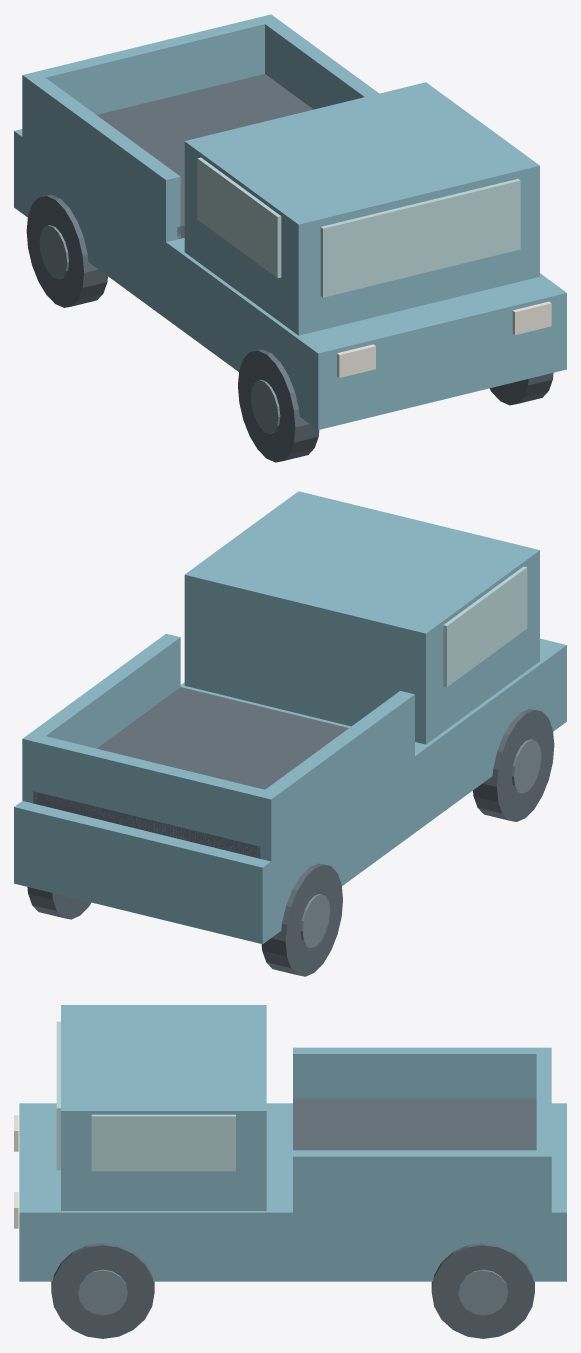
The model's file is pickup.glb.
The picture shows the model from 3 angles, top to bottom: view 1: azimuth 30°, elevation 25°; view 2: azimuth 150°, elevation 25°; view 3: azimuth 270°, elevation 25°; orthographic projection. The views are drawn at different scales.
Parts seen in each view (by area): view 1: pickup_009, pickup_000, pickup_010, pickup_014, pickup_016, pickup_013, pickup_011, pickup_015, pickup_001, pickup_003, pickup_005, pickup_002 (+3 smaller); view 2: pickup_009, pickup_000, pickup_013, pickup_016, pickup_014, pickup_015, pickup_011, pickup_001, pickup_003, pickup_007, pickup_002, pickup_004; view 3: pickup_000, pickup_009, pickup_015, pickup_013, pickup_014, pickup_012, pickup_005, pickup_007, pickup_006, pickup_008, pickup_016, pickup_010.
Part boxes in pixels (x1,y1,x2,y2): pickup_009: (184, 82, 539, 335); pickup_000: (14, 129, 566, 429); pickup_010: (320, 179, 520, 297); pickup_014: (22, 71, 180, 247); pickup_016: (30, 16, 270, 114); pickup_013: (97, 74, 313, 238); pickup_011: (197, 157, 281, 278); pickup_015: (257, 14, 378, 109); pickup_001: (238, 349, 319, 462); pickup_003: (26, 194, 107, 307); pickup_005: (489, 373, 553, 405); pickup_002: (250, 379, 280, 433); pickup_009: (184, 491, 539, 744); pickup_000: (14, 638, 566, 944); pickup_013: (33, 687, 348, 858); pickup_016: (29, 736, 269, 859); pickup_014: (256, 691, 414, 861); pickup_015: (22, 633, 180, 803); pickup_011: (443, 566, 527, 687); pickup_001: (473, 709, 554, 821); pickup_003: (261, 863, 342, 976); pickup_007: (27, 887, 91, 919); pickup_002: (512, 739, 541, 793); pickup_004: (300, 894, 330, 947); pickup_000: (19, 1103, 566, 1281); pickup_009: (61, 1005, 266, 1210); pickup_015: (293, 1150, 551, 1218); pickup_013: (293, 1098, 536, 1150); pickup_014: (293, 1047, 551, 1098); pickup_012: (91, 1114, 235, 1171); pickup_005: (51, 1243, 154, 1338); pickup_007: (431, 1243, 534, 1338); pickup_006: (78, 1269, 127, 1315); pickup_008: (458, 1269, 507, 1315); pickup_016: (536, 1054, 551, 1151); pickup_010: (56, 1021, 60, 1170).
Bounding box in the file's own units: 1.8 × 1.63 × 3.64.
